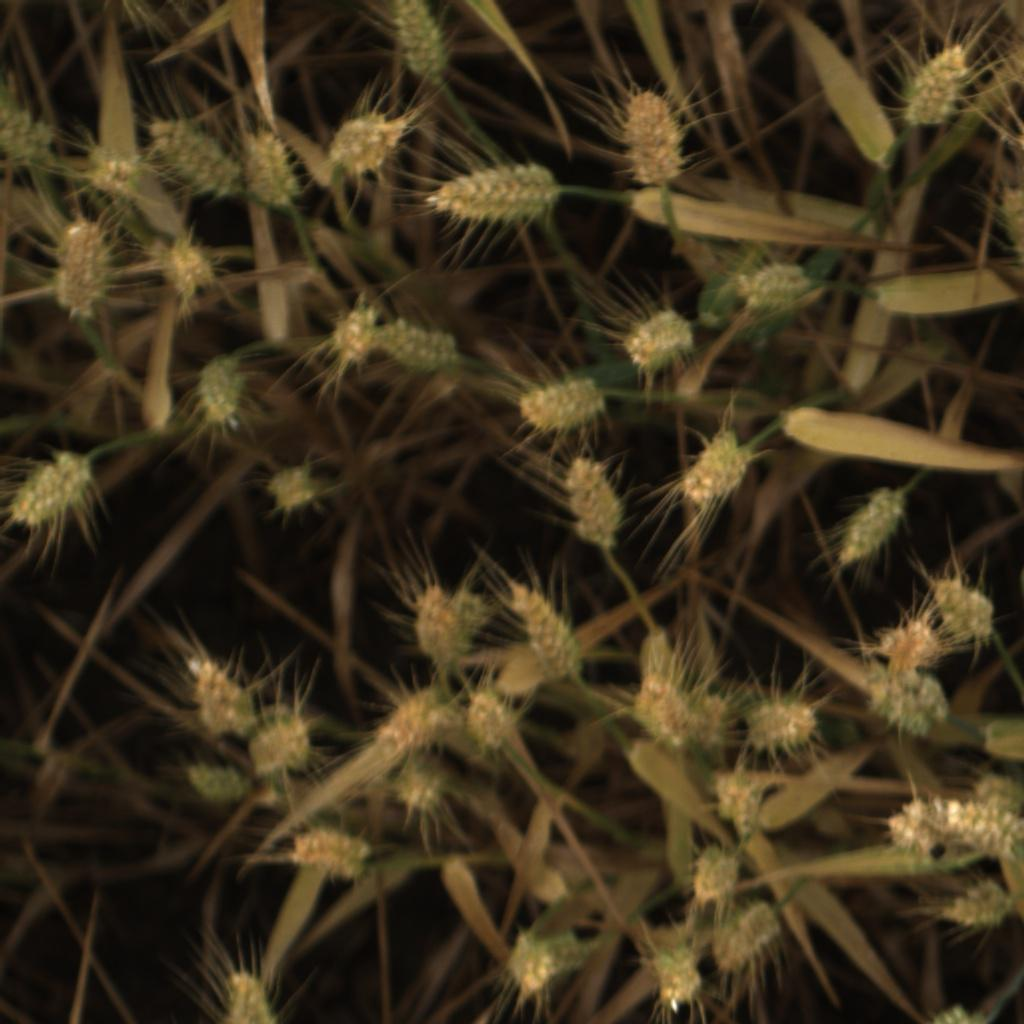0-0: (423, 159, 557, 229), (505, 578, 584, 676), (177, 647, 259, 739), (148, 116, 240, 195), (405, 583, 490, 668), (677, 424, 756, 510), (869, 674, 959, 749), (13, 448, 93, 532), (899, 40, 972, 131), (621, 90, 689, 187), (833, 482, 907, 567), (54, 218, 112, 324), (561, 454, 624, 551), (621, 673, 695, 754), (926, 569, 1000, 649), (938, 796, 1024, 864), (372, 682, 453, 754), (513, 375, 603, 438), (713, 892, 783, 972), (619, 303, 694, 376), (741, 692, 825, 757), (503, 927, 582, 995), (239, 125, 302, 209), (327, 109, 405, 175), (391, 0, 450, 83), (291, 825, 371, 886), (937, 874, 1017, 935), (379, 316, 459, 376), (643, 938, 707, 1010), (734, 258, 817, 312), (873, 616, 947, 676), (678, 842, 746, 907), (707, 777, 777, 840), (876, 793, 938, 863), (221, 968, 290, 1024), (245, 714, 307, 775), (2, 93, 54, 165), (196, 359, 248, 430), (84, 143, 145, 201), (180, 757, 254, 804), (397, 754, 451, 817), (262, 461, 323, 515), (164, 242, 216, 304), (329, 301, 378, 366), (680, 691, 731, 752), (465, 689, 517, 747), (995, 184, 1024, 272), (969, 767, 1024, 811), (424, 702, 472, 732), (927, 1001, 985, 1024)
